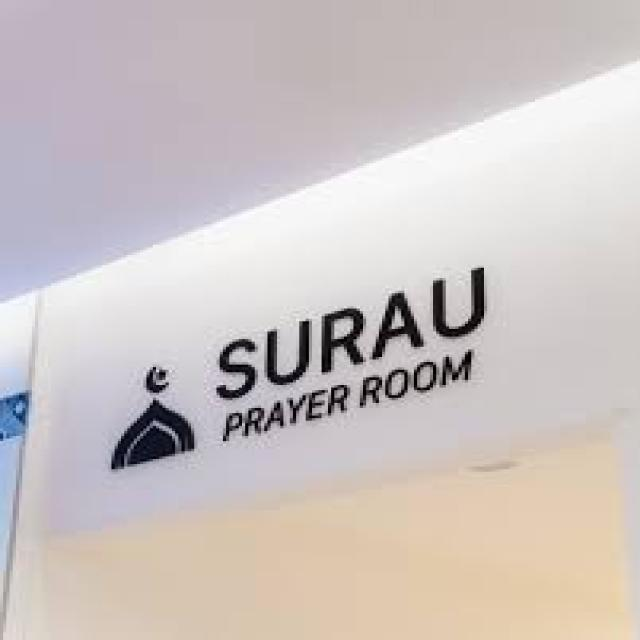surau_icon: (105, 357, 202, 480)
